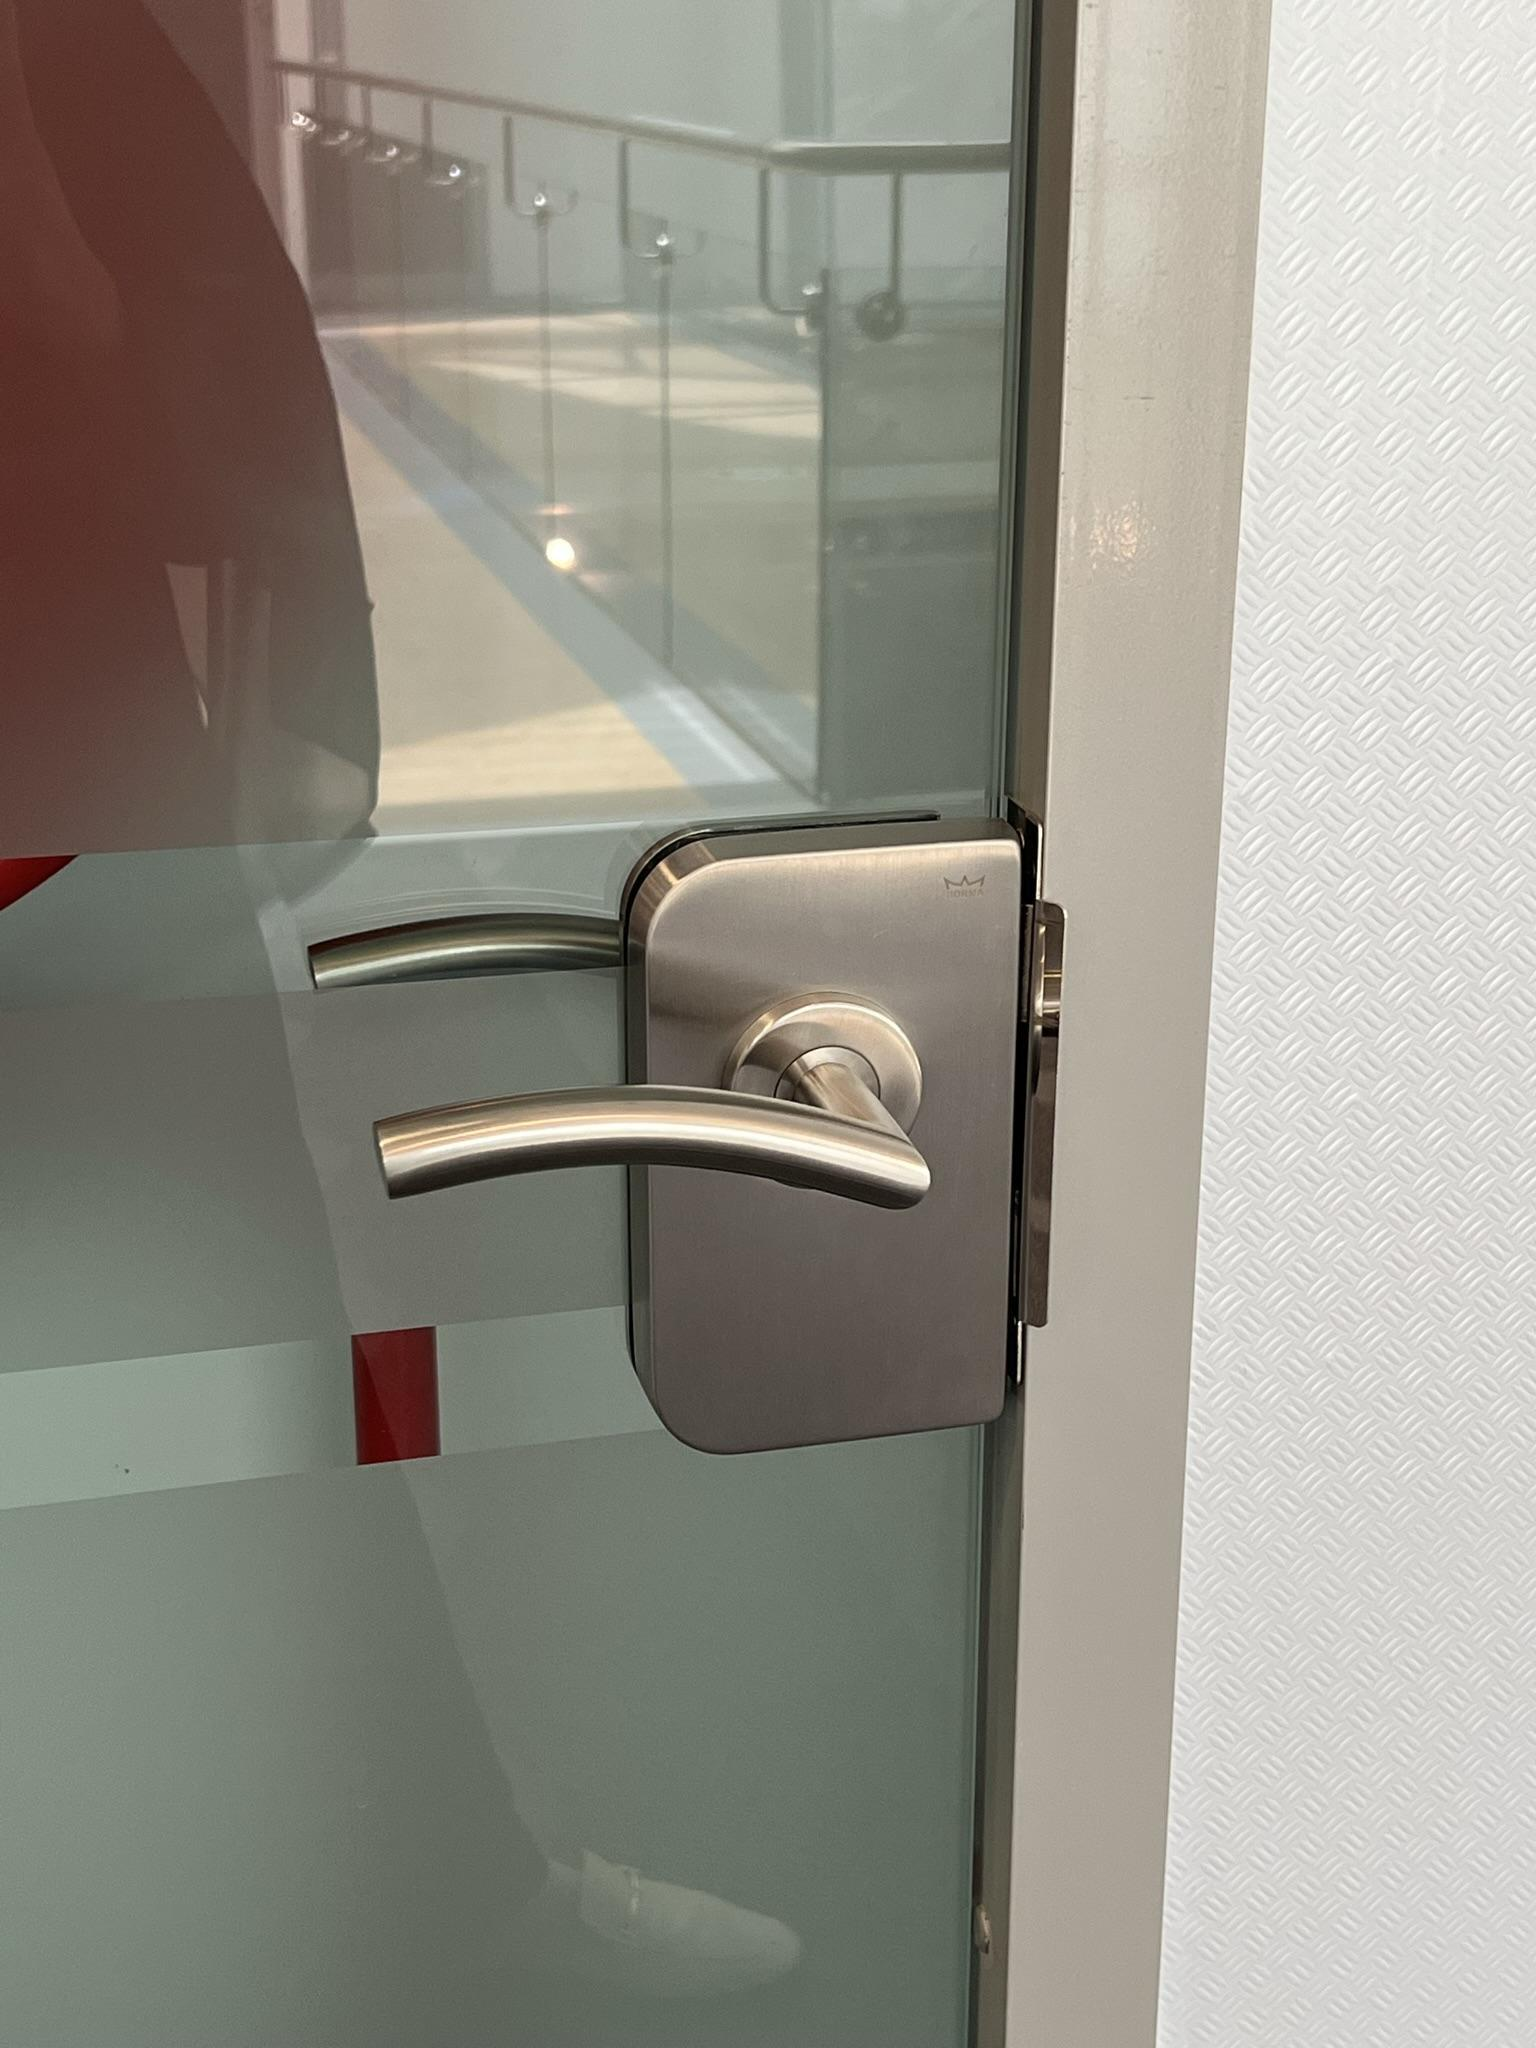door: (27, 6, 1161, 2031)
handle: (352, 814, 1026, 1464)
